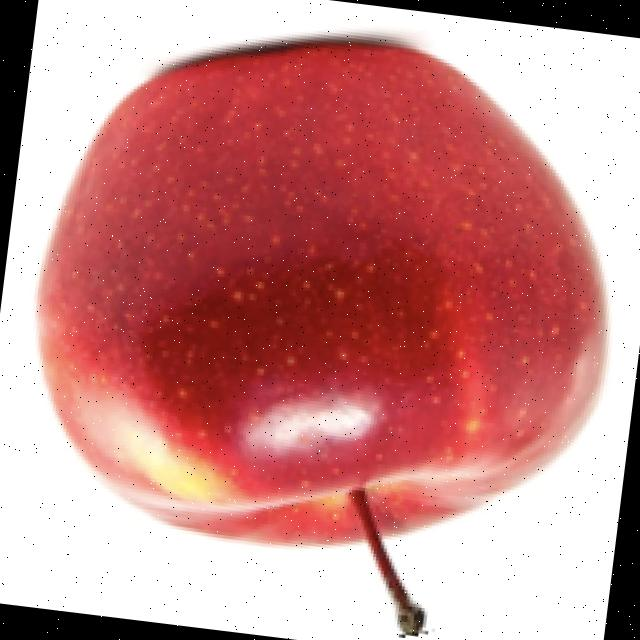apple: (31, 25, 615, 640)
